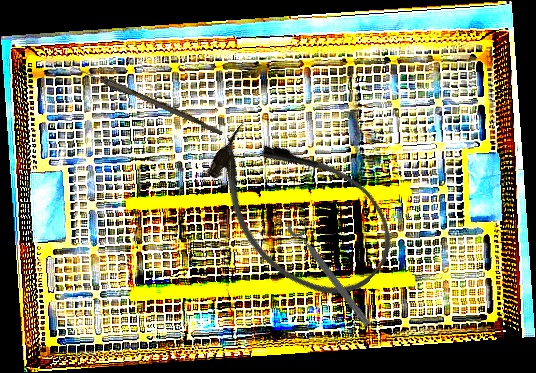Cannula: (184, 100, 413, 321)
Fixation Ring: (285, 214, 380, 330)
Surgical Spoon: (62, 60, 225, 136)
